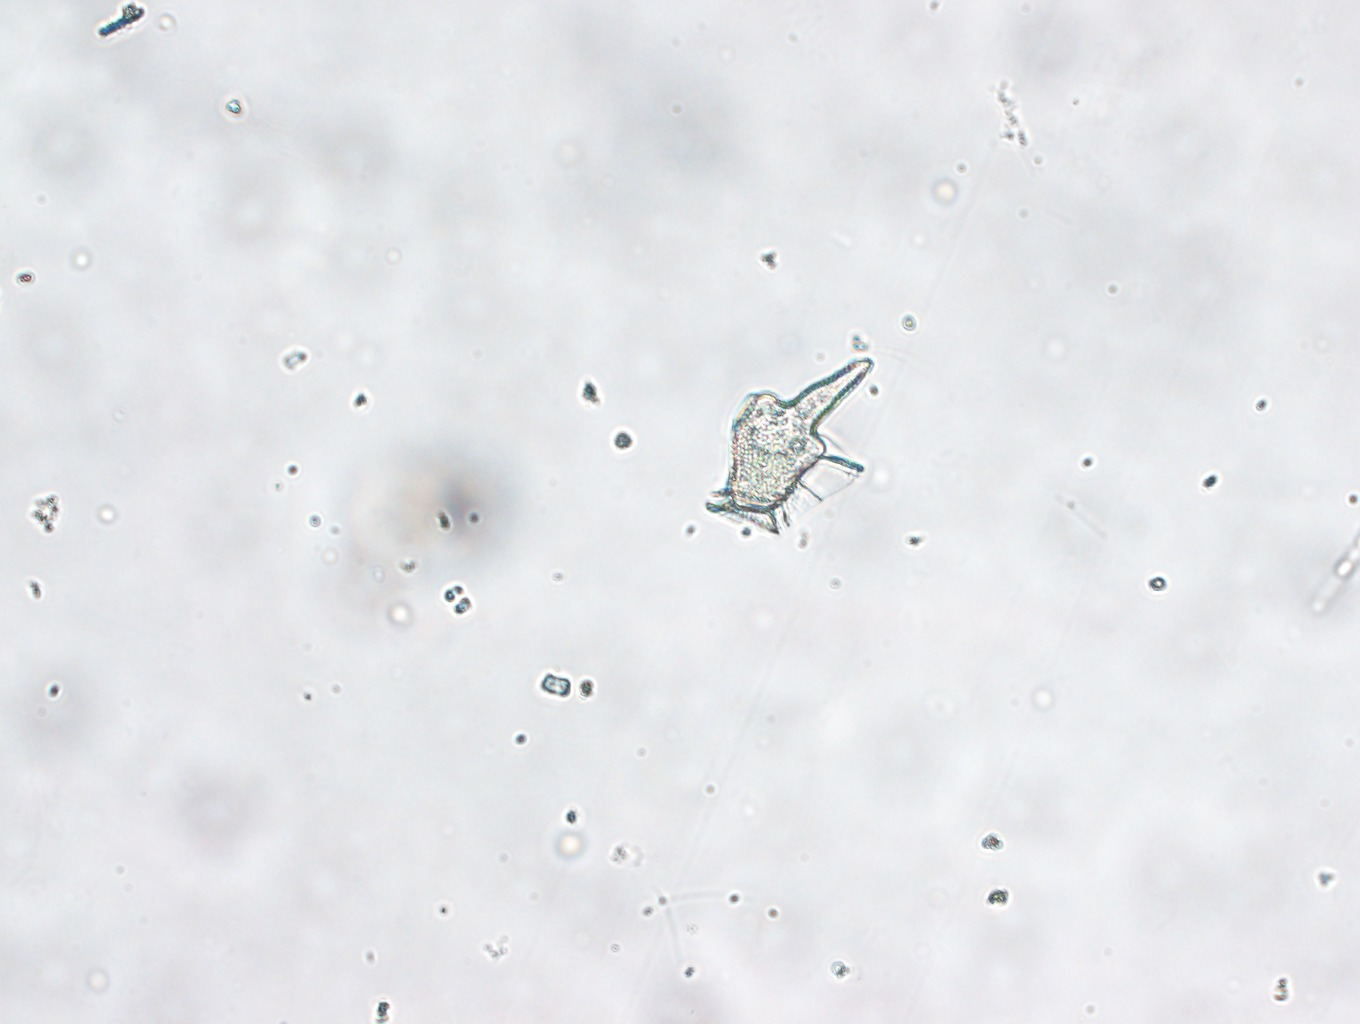dinophysis caudata: (706, 356, 875, 535)
